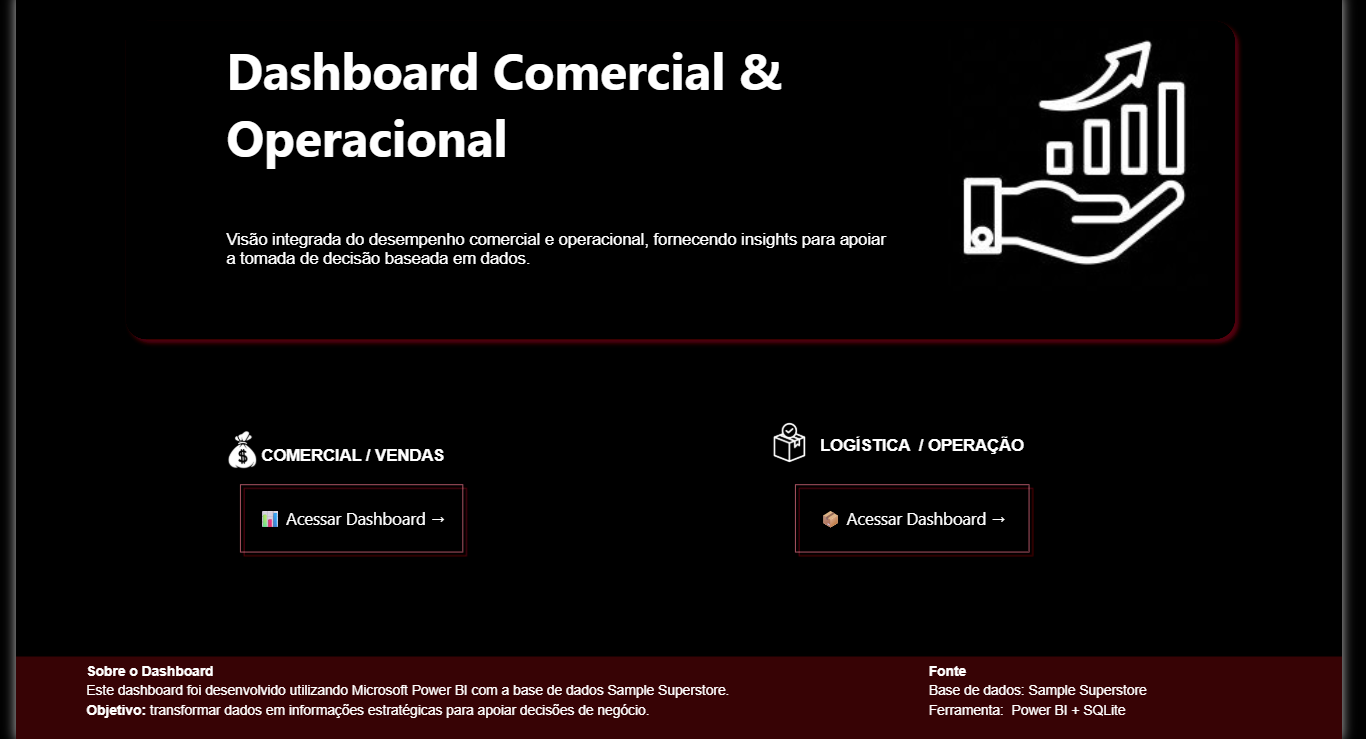

Layout of this report page (visuals, bound fields, positions):
{"tool":"powerbi","page":{"name":"Home","canvas":[1280,720],"ordinal":0},"visuals":[{"type":"shape","box":[96.5,16.9,1089.4,325.7],"z":0},{"type":"textbox","box":[197.9,36.2,735.9,160.5],"z":1000},{"type":"textbox","box":[197.9,168.9,600.8,54.3],"z":2000},{"type":"actionButton","title":"📊 Comercial","box":[211.1,468.1,225.6,76],"z":3000},{"type":"actionButton","box":[746.8,468.1,236.5,76],"z":4000},{"type":"textbox","box":[197.9,142.4,102.5,80.8],"z":5000},{"type":"textbox","box":[197.9,223.2,647.9,82],"z":6000},{"type":"image","box":[177.3,413.8,83.2,54.3],"z":7000},{"type":"image","box":[895.2,25.3,260.6,269],"z":8000},{"type":"shape","box":[0,639.4,1280,80.8],"z":9000},{"type":"textbox","box":[62.7,639.4,1107.5,80.8],"z":10000},{"type":"textbox","box":[875.9,639.4,404.2,80.8],"z":11000},{"type":"textbox","box":[231.6,431.9,205.1,45.8],"z":12000},{"type":"image","box":[687.7,398.1,117,70],"z":13000},{"type":"textbox","box":[770.9,422.3,509.1,45.8],"z":14000}]}

Visuals, with their boxes on the page's 1280x720 design canvas (x1, y1, x2, y2). These are canvas units, not pixel positions in the 1366x739 screenshot, which may show the page scaled, cropped or inside an application window:
shape: pyautogui.locateOnScreen(96, 17, 1186, 343)
textbox: pyautogui.locateOnScreen(198, 36, 934, 197)
textbox: pyautogui.locateOnScreen(198, 169, 799, 223)
"📊 Comercial" actionButton: pyautogui.locateOnScreen(211, 468, 437, 544)
actionButton: pyautogui.locateOnScreen(747, 468, 983, 544)
textbox: pyautogui.locateOnScreen(198, 142, 300, 223)
textbox: pyautogui.locateOnScreen(198, 223, 846, 305)
image: pyautogui.locateOnScreen(177, 414, 260, 468)
image: pyautogui.locateOnScreen(895, 25, 1156, 294)
shape: pyautogui.locateOnScreen(0, 639, 1280, 720)
textbox: pyautogui.locateOnScreen(63, 639, 1170, 720)
textbox: pyautogui.locateOnScreen(876, 639, 1280, 720)
textbox: pyautogui.locateOnScreen(232, 432, 437, 478)
image: pyautogui.locateOnScreen(688, 398, 805, 468)
textbox: pyautogui.locateOnScreen(771, 422, 1280, 468)
